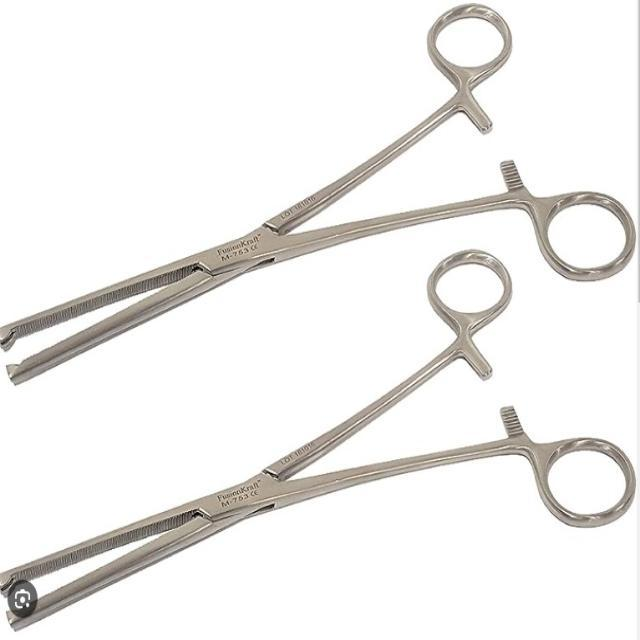Kocher Forceps: (0, 8, 634, 394), (0, 248, 625, 634)
